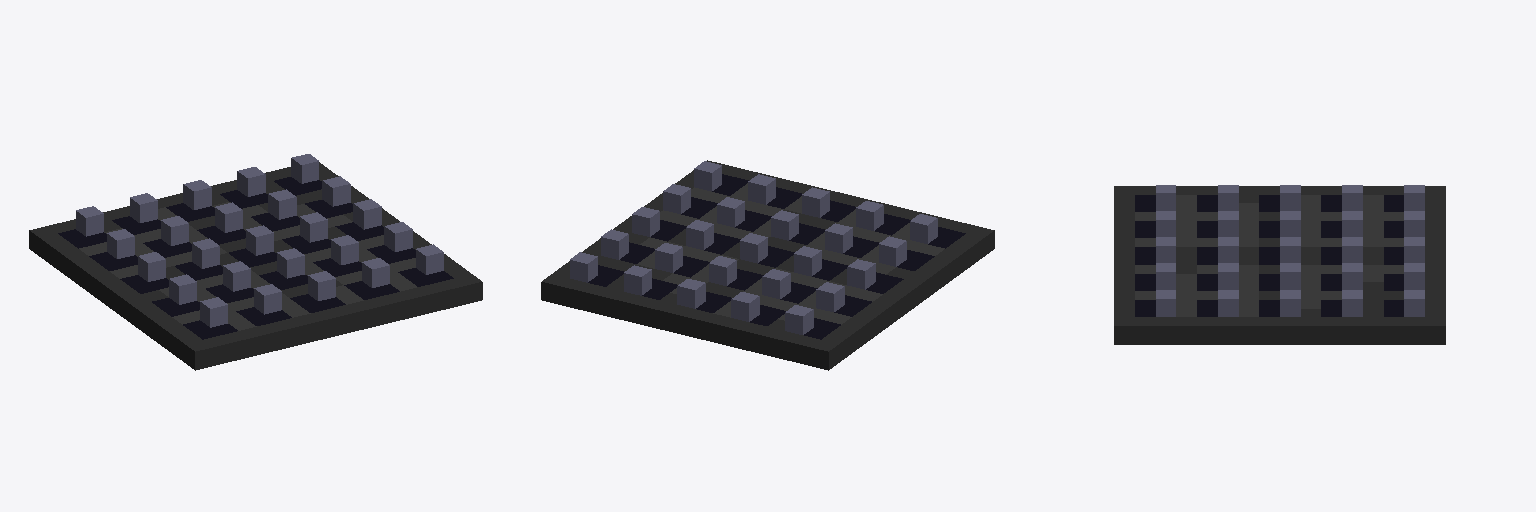
The picture shows the model from 3 angles: view 1: azimuth 30°, elevation 25°; view 2: azimuth 150°, elevation 25°; view 3: azimuth 270°, elevation 25°; orthographic projection.
Parts seen in each view (by area): view 1: object 1; view 2: object 1; view 3: object 1.
Boxes of the visible parts, <box> form: object 1: <box>29,154,482,370</box>; object 1: <box>541,160,994,370</box>; object 1: <box>1114,185,1445,344</box>.
Size of the model in its own units: 1.6 by 0.2 by 1.6.
1 materials, 1 textured.